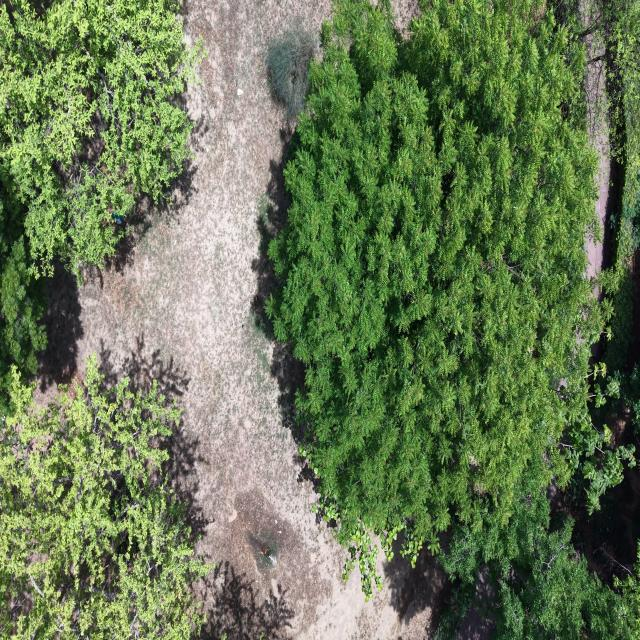DRY_AREA: (40, 0, 446, 639), (586, 36, 624, 277), (585, 36, 612, 277)
VEGETATION_TREE: (267, 0, 639, 639), (268, 0, 634, 638), (269, 0, 601, 544), (0, 0, 207, 639), (0, 0, 201, 414), (0, 355, 208, 639), (0, 0, 201, 273), (437, 466, 638, 639), (583, 0, 639, 442), (591, 0, 639, 442), (590, 0, 639, 389), (598, 0, 639, 407), (561, 363, 635, 514), (595, 0, 639, 245), (0, 183, 46, 415), (267, 24, 317, 117), (615, 542, 639, 637)
